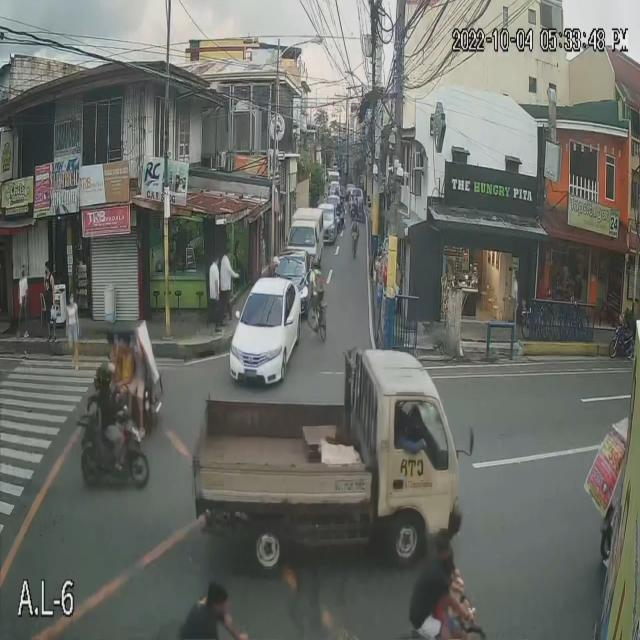Full-Faced: (95, 360, 117, 391)
